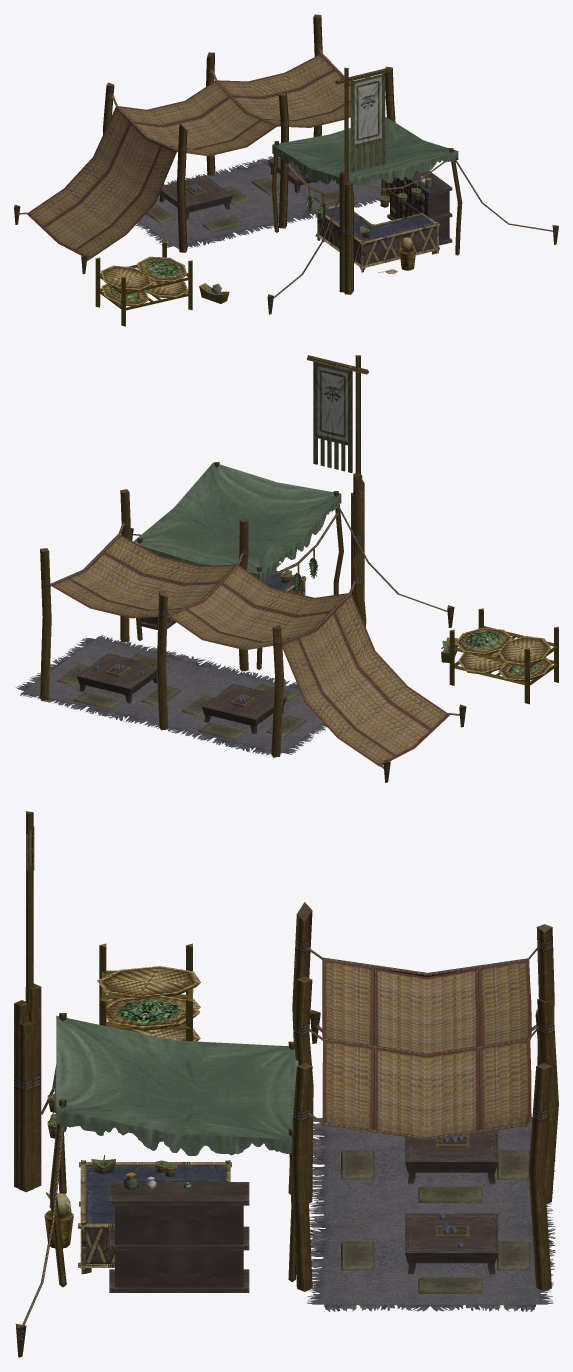
Rendered from chapu_yc_40.FBX.
3 views of the same model, one above another, from view 1: azimuth 30°, elevation 25°; view 2: azimuth 150°, elevation 25°; view 3: azimuth 270°, elevation 25° (orthographic). The views are drawn at different scales.
Visible parts, largest first — view 1: chapu_yc_40; view 2: chapu_yc_40; view 3: chapu_yc_40.
Boxes of the visible parts, x1=… form: chapu_yc_40: x1=14, y1=14, x2=558, y2=326; chapu_yc_40: x1=15, y1=355, x2=558, y2=782; chapu_yc_40: x1=14, y1=811, x2=558, y2=1357.
Size of what is drawn, in the model's own units: 1543 by 803 by 1053.
